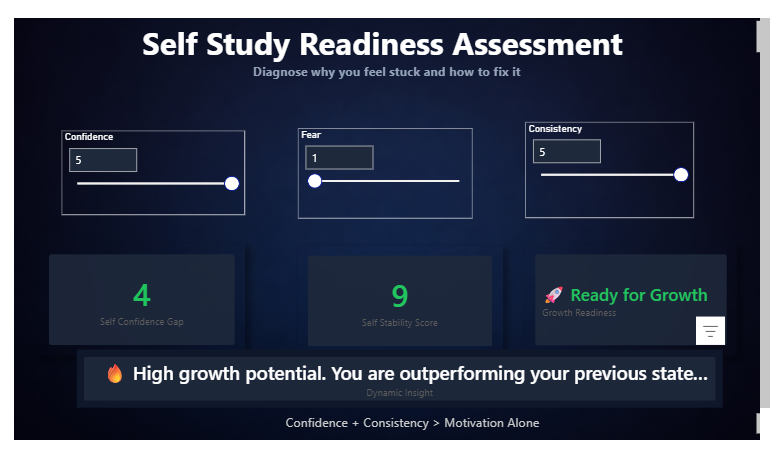

This screenshot's page, from the dashboard's own definition file:
{"tool":"powerbi","page":{"name":"self_study","canvas":[1280,720],"ordinal":0},"visuals":[{"type":"textbox","box":[0,0,1280,119.4],"z":0},{"type":"slicer","title":"Fear","fields":{"Values":["Fear Input.Fear Input"]},"box":[484,188,298,154],"z":1000},{"type":"slicer","title":"Confidence","fields":{"Values":["confidence Input.confidence Input"]},"box":[80,192,313,144],"z":2000},{"type":"cardVisual","fields":{"Data":["fact_student_ready_model.Self Confidence Gap"]},"box":[42.2,386.1,351.1,189.4],"z":3000},{"type":"cardVisual","fields":{"Data":["fact_student_ready_model.Self Stability Score"]},"box":[483.8,387.3,349.9,189.4],"z":4000},{"type":"cardVisual","fields":{"Data":["fact_student_ready_model.Growth Readiness"]},"box":[872,387,361,190],"z":5000},{"type":"slicer","title":"Consistency","fields":{"Values":["Consistency Input.Consistency Input"]},"box":[872,178,288,164],"z":6000},{"type":"cardVisual","fields":{"Data":["fact_student_ready_model.Dynamic Insight"]},"box":[84,585,1118,86],"z":7000},{"type":"textbox","box":[0,670.6,1280.3,49.8],"z":8000}]}

Visuals, with their boxes on the page's 1280x720 design canvas (x1, y1, x2, y2). These are canvas units, not pixel positions in the 776x454 screenshot, which may show the page scaled, cropped or inside an application window:
textbox: bbox=[0, 0, 1280, 119]
"Fear" slicer: bbox=[484, 188, 782, 342]
"Confidence" slicer: bbox=[80, 192, 393, 336]
cardVisual - fact_student_ready_model.Self Confidence Gap: bbox=[42, 386, 393, 576]
cardVisual - fact_student_ready_model.Self Stability Score: bbox=[484, 387, 834, 577]
cardVisual - fact_student_ready_model.Growth Readiness: bbox=[872, 387, 1233, 577]
"Consistency" slicer: bbox=[872, 178, 1160, 342]
cardVisual - fact_student_ready_model.Dynamic Insight: bbox=[84, 585, 1202, 671]
textbox: bbox=[0, 671, 1280, 720]
